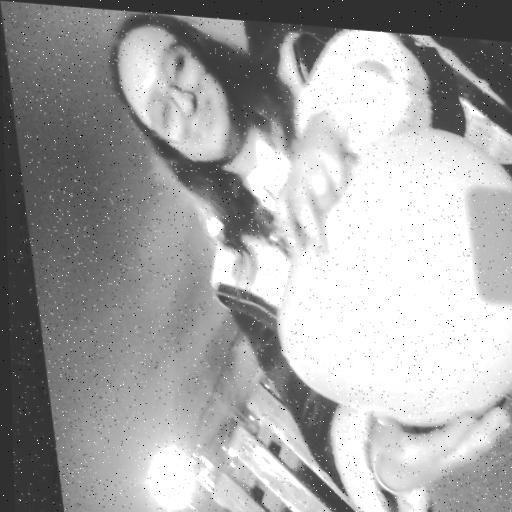balloon: (246, 111, 512, 435)
